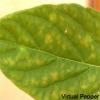Bell_pepper leaf spot: (0, 4, 99, 94)
